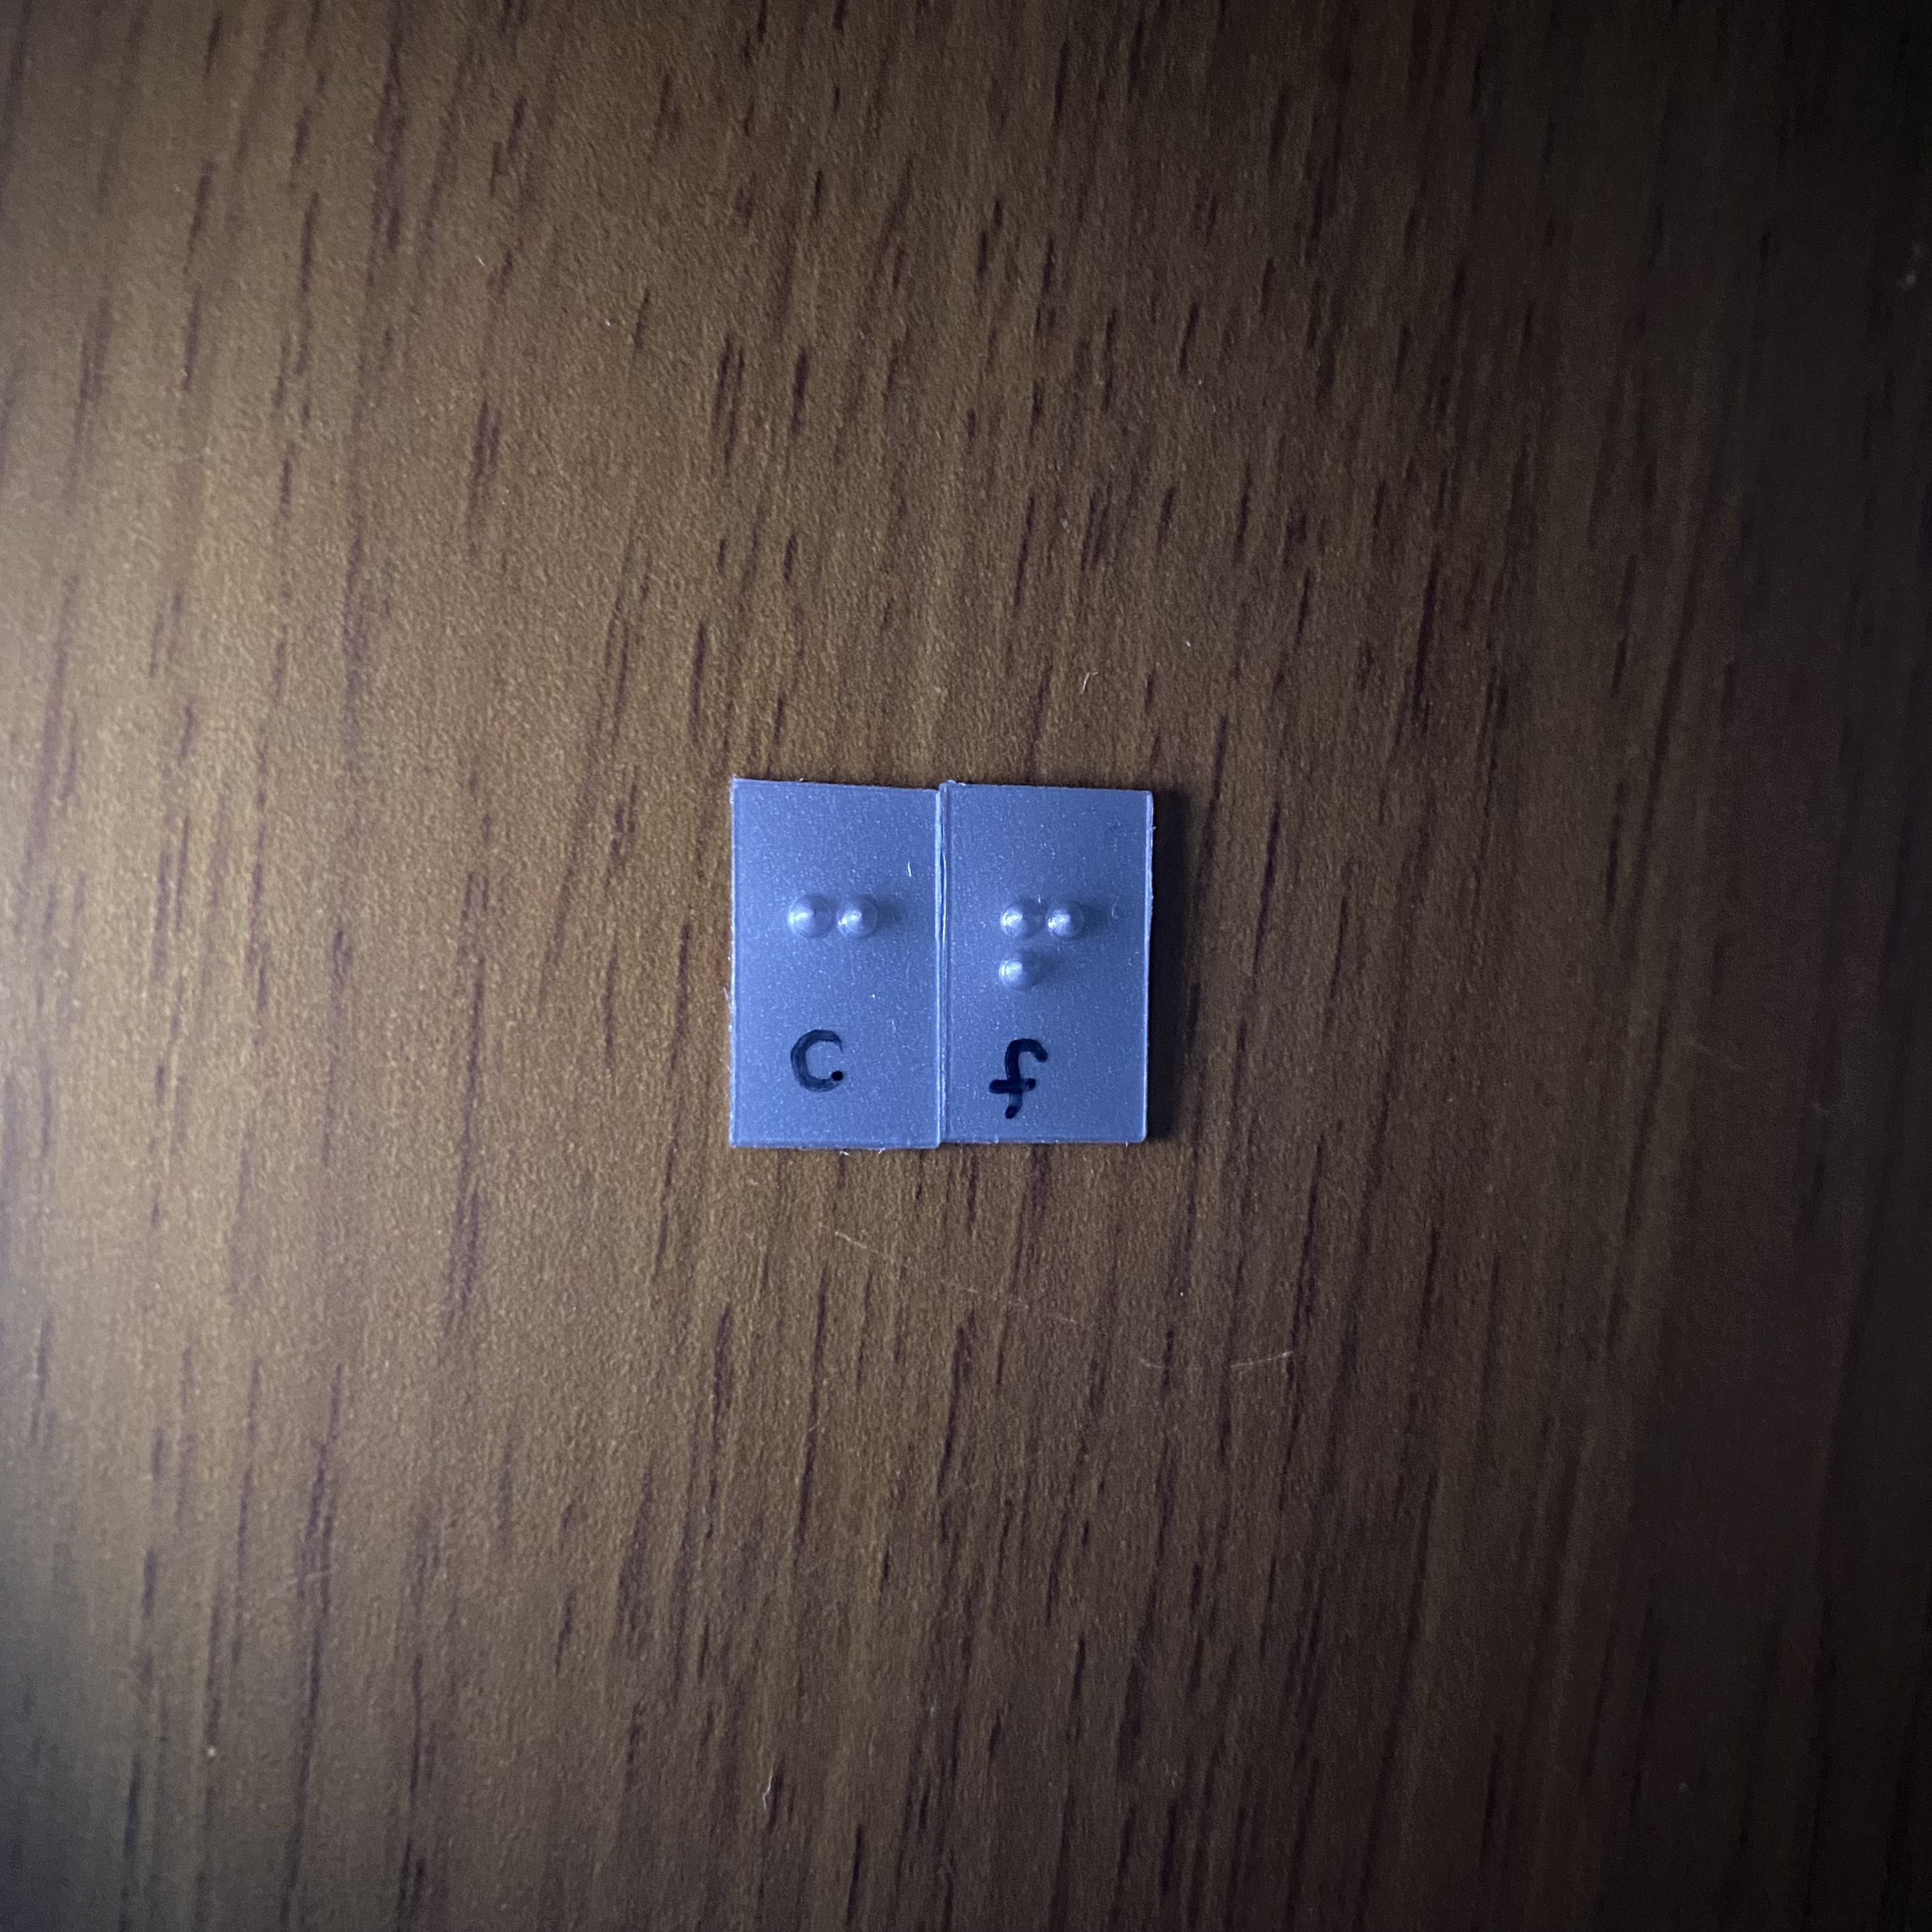c: (769, 877, 895, 1068)
f: (979, 885, 1104, 1066)
